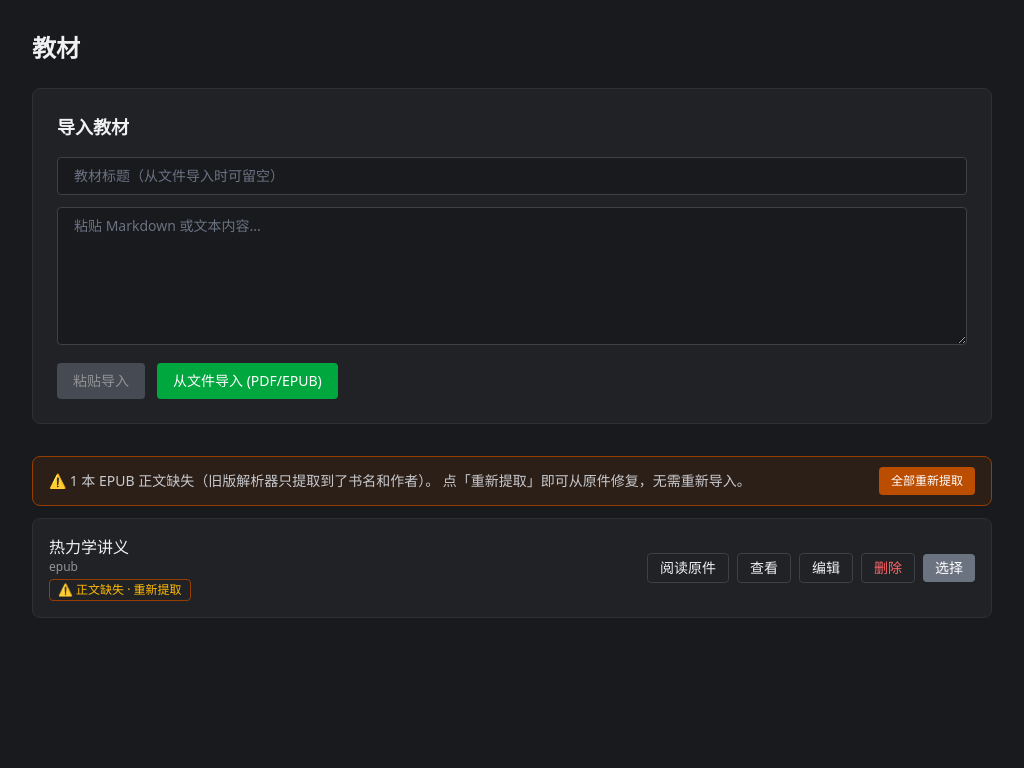
it: TextbooksView — EPUB repair › reports a repair that returns success without content
Click the button "⚠️ 正文缺失 · 重新提取": (120, 590) [49,579,191,601]
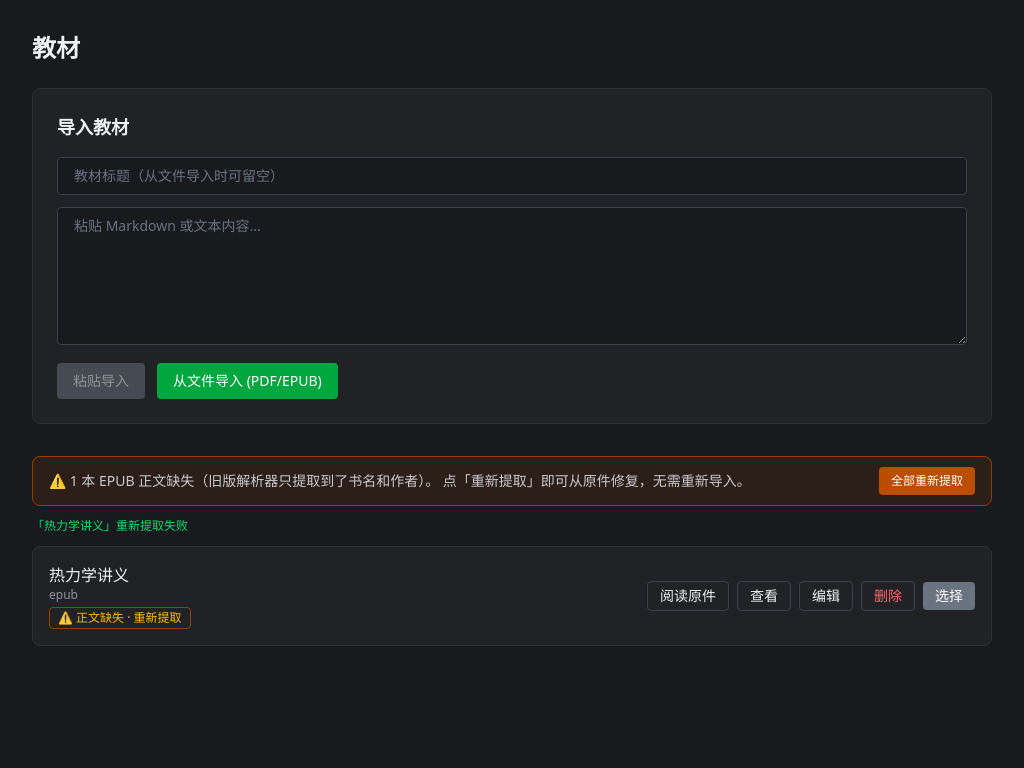
Now the text "「热力学讲义」重新提取失败" is shown, box [32,517,188,534]
